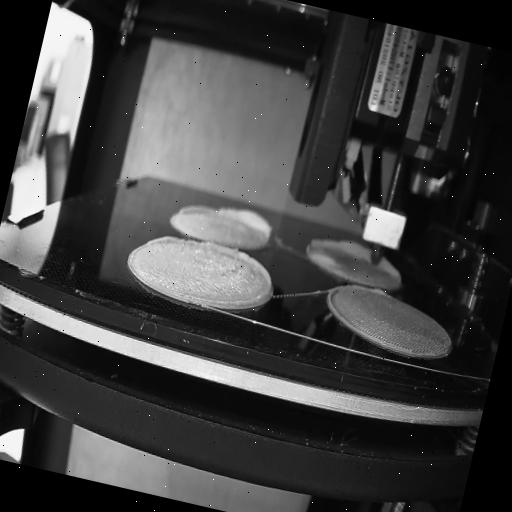over_extrusion: (184, 236, 279, 318), (298, 228, 374, 267), (214, 201, 275, 242), (144, 228, 184, 252), (375, 257, 405, 285), (353, 281, 392, 302), (178, 200, 212, 223)
